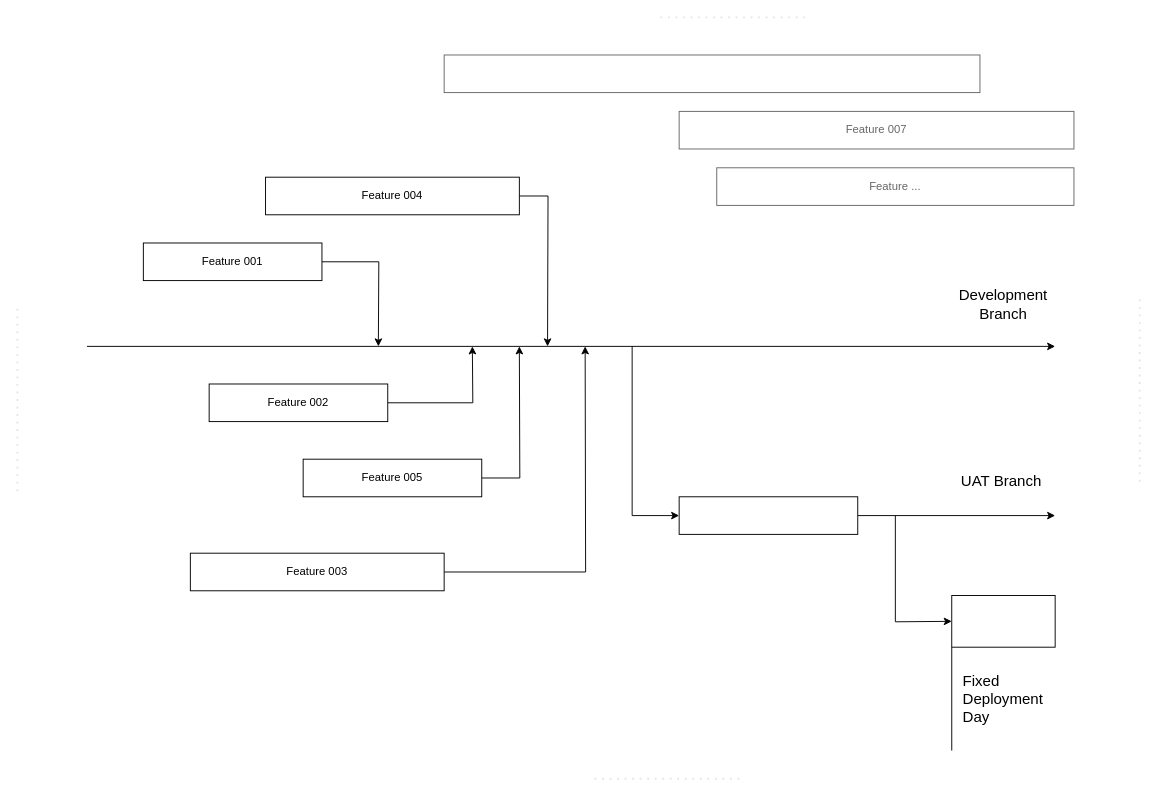
Some shapes in this 1157 by 796 pixel diagram are drawn without their labels. The centre of each missing label's shape, as x and y in pixels:
Deploy to Production: (x=1003, y=621)
Feature 006: (x=711, y=73)
Testing: (x=768, y=515)
